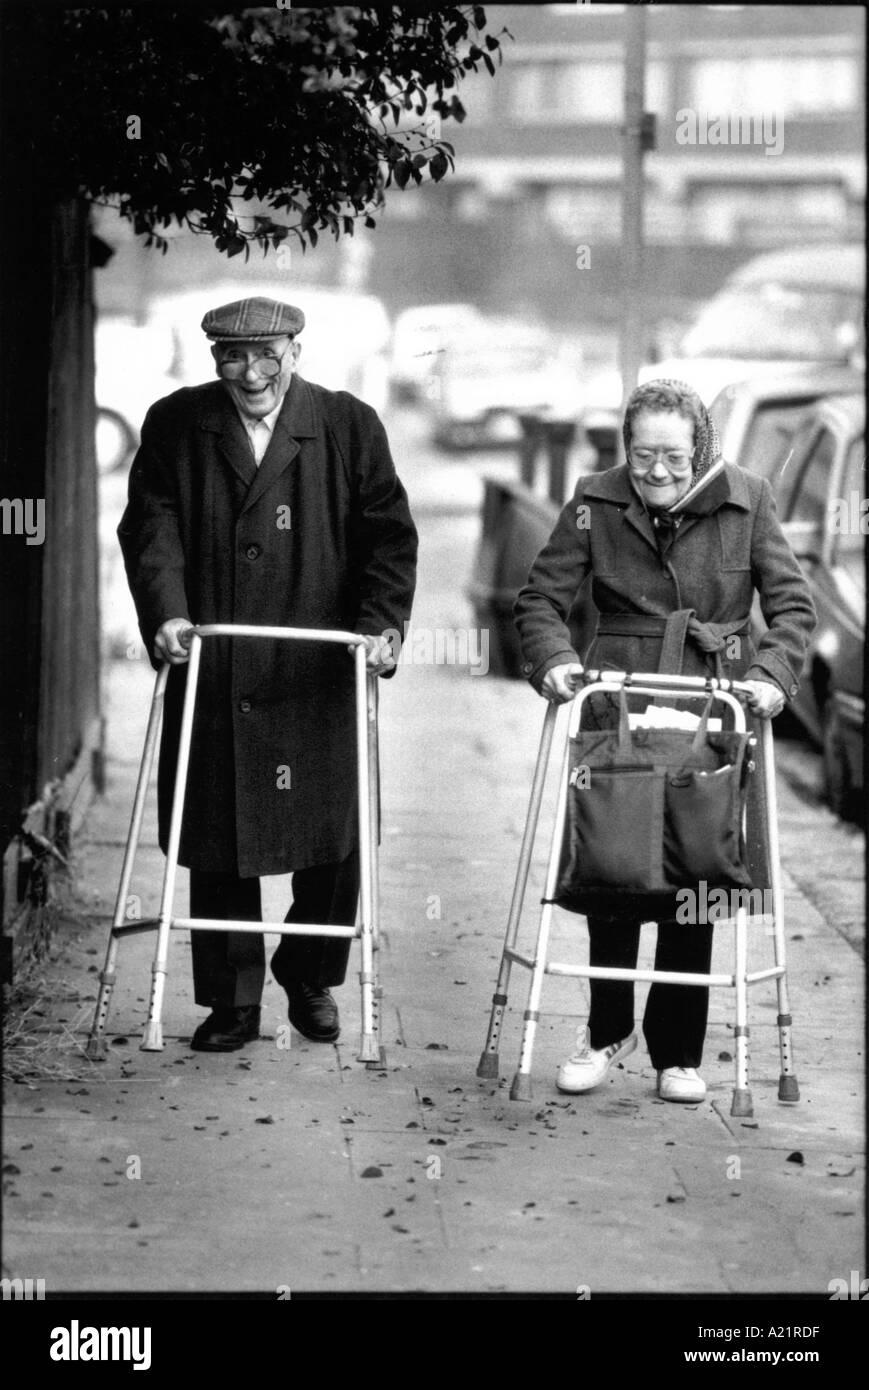walking_frame: (85, 295, 418, 1064), (479, 377, 821, 1119)
